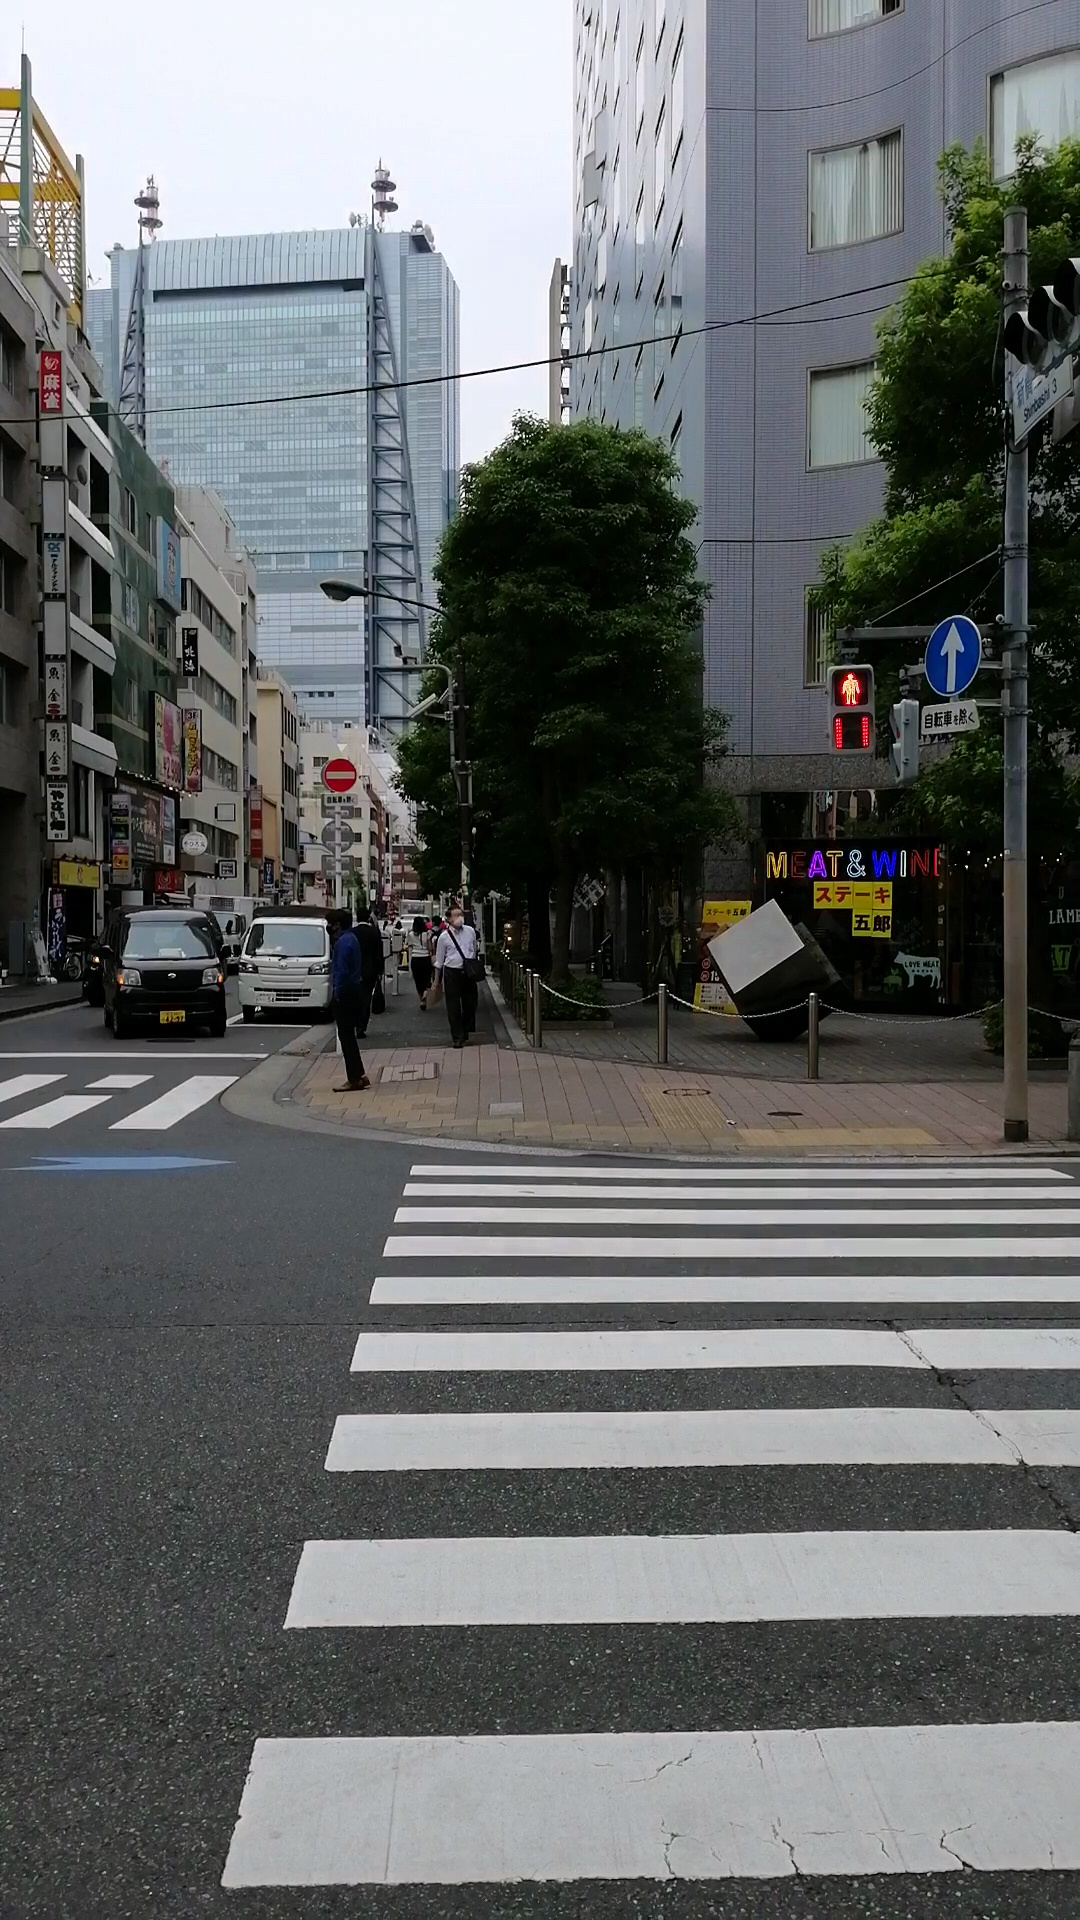red: (825, 662, 876, 753)
